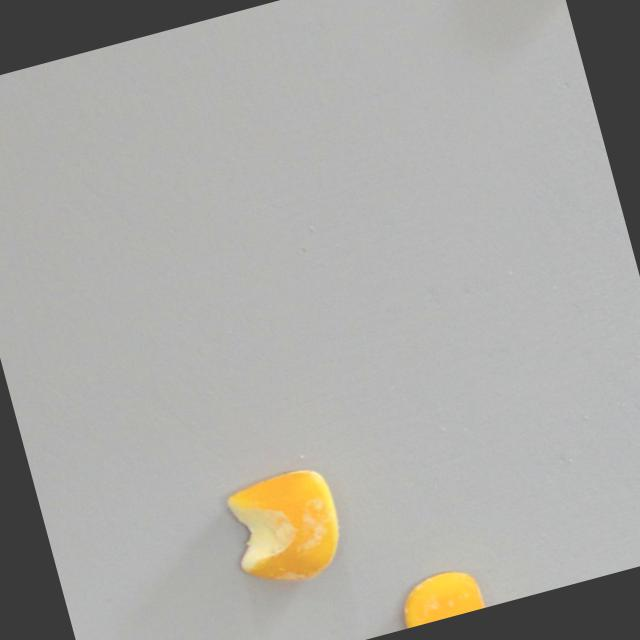pelicula: (210, 456, 359, 600), (388, 559, 487, 630)
